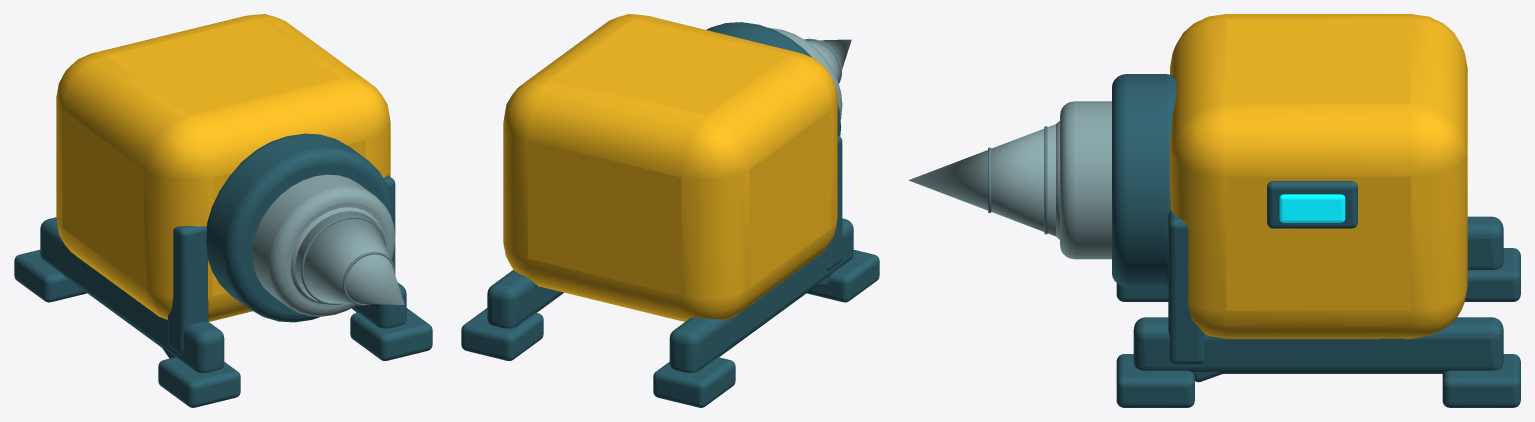
Rendered from drill.glb.
3 renders of one model, left to right at view 1: azimuth 30°, elevation 25°; view 2: azimuth 150°, elevation 25°; view 3: azimuth 270°, elevation 25°, orthographic. The views are drawn at different scales.
Parts seen in each view (by area): view 1: Drill housing, Drill collar, Drill spindle, Drill bit, Drill support, Front upright, Drill foot, Drill foot.002, Drill foot.001, Drill support.001, Drill metal ring.001, Torus; view 2: Drill housing, Drill support, Drill foot.001, Drill foot.003, Drill support.001, Drill foot, Drill collar, Front upright, Drill bit, Drill spindle; view 3: Drill housing, Drill support.001, Drill collar, Drill spindle, Drill bit, Front upright.001, Drill foot.002, Drill foot.003, Drill indicator bezel, Drill foot.001, Drill support, Drill indicator (+1 smaller).
Part boxes in pixels (<box>): Drill housing: <box>56,14,390,321</box>; Drill collar: <box>206,133,394,322</box>; Drill spindle: <box>252,174,395,316</box>; Drill bit: <box>295,211,404,304</box>; Drill support: <box>40,217,224,372</box>; Front upright: <box>168,226,208,355</box>; Drill foot: <box>158,357,240,407</box>; Drill foot.002: <box>350,308,432,360</box>; Drill foot.001: <box>14,249,86,302</box>; Drill support.001: <box>351,282,406,328</box>; Drill metal ring.001: <box>290,207,382,304</box>; Torus: <box>301,216,386,304</box>; Drill housing: <box>503,14,837,321</box>; Drill support: <box>669,218,853,372</box>; Drill foot.001: <box>653,357,735,407</box>; Drill foot.003: <box>461,308,543,360</box>; Drill support.001: <box>487,270,563,328</box>; Drill foot: <box>807,249,879,302</box>; Drill collar: <box>706,22,841,136</box>; Front upright: <box>826,135,842,270</box>; Drill bit: <box>806,39,851,81</box>; Drill spindle: <box>768,27,842,119</box>; Drill housing: <box>1170,14,1467,338</box>; Drill support.001: <box>1133,317,1503,373</box>; Drill collar: <box>1112,74,1176,286</box>; Drill spindle: <box>1060,101,1111,259</box>; Drill bit: <box>908,124,1055,236</box>; Front upright.001: <box>1168,210,1204,364</box>; Drill foot.002: <box>1116,354,1194,407</box>; Drill foot.003: <box>1442,354,1520,407</box>; Drill indicator bezel: <box>1267,181,1357,228</box>; Drill foot.001: <box>1465,248,1520,301</box>; Drill support: <box>1467,216,1503,269</box>; Drill indicator: <box>1279,194,1345,222</box>.
Size of the model in its own units: 1.15 by 1.07 by 2.11.
